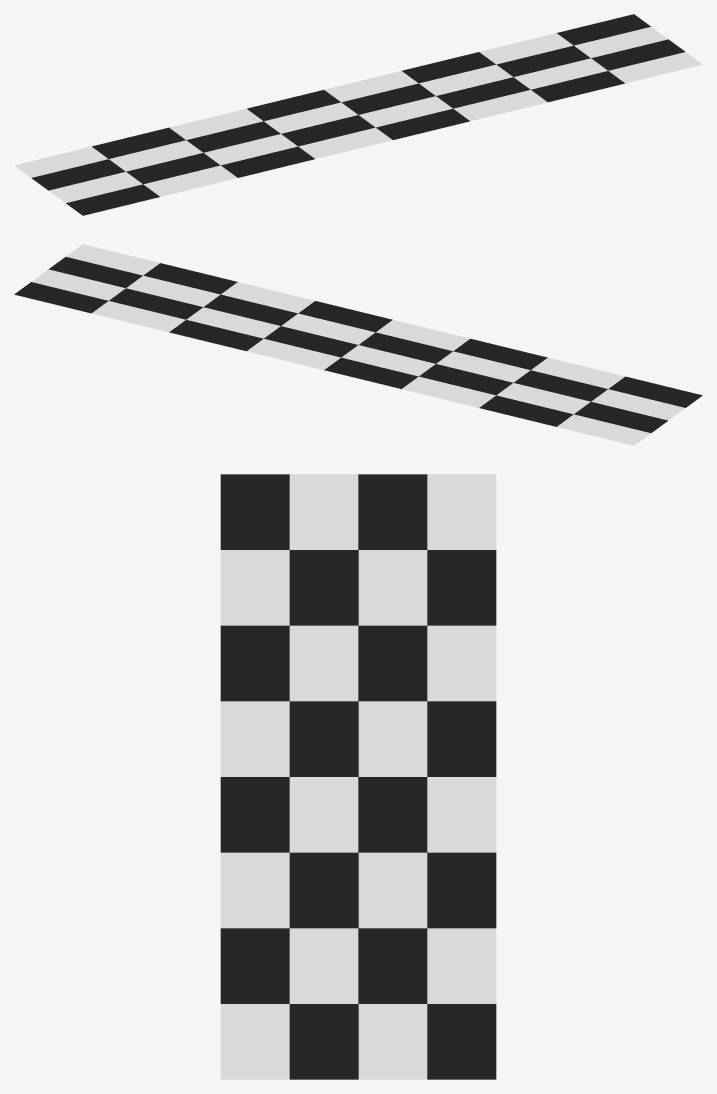
The model's file is finish.glb.
The picture shows the model from 3 angles, top to bottom: view 1: azimuth 30°, elevation 25°; view 2: azimuth 150°, elevation 25°; view 3: azimuth 270°, elevation 25°; orthographic projection. The views are drawn at different scales.
Parts seen in each view (by area): view 1: Plane.002; view 2: Plane.002; view 3: Plane.002.
Boxes of the visible parts, x1=… form: Plane.002: x1=14, y1=14, x2=702, y2=215; Plane.002: x1=14, y1=244, x2=702, y2=445; Plane.002: x1=220, y1=474, x2=496, y2=1079.
Bounding box in the file's own units: 47.78 × 0 × 9.2.
Materials: 1 (1 with a texture image).
